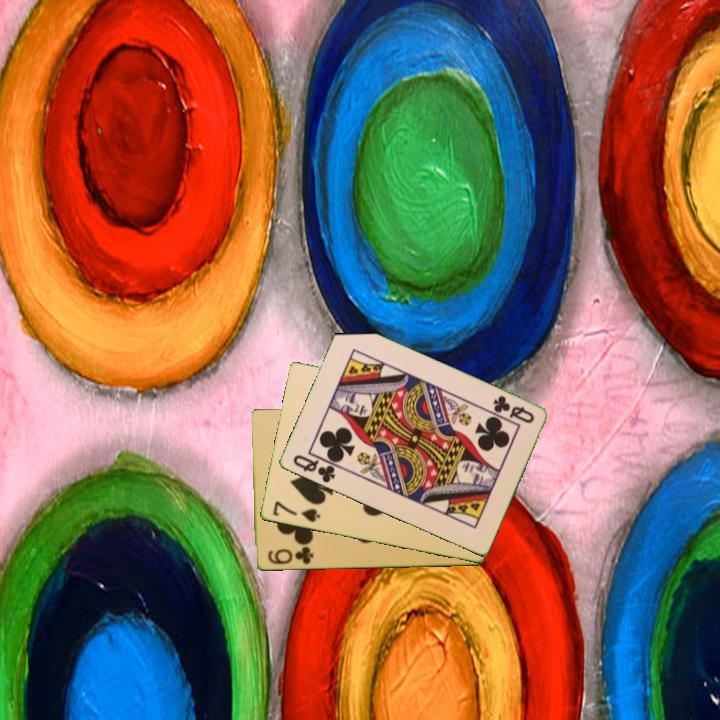6c: (264, 543, 316, 567)
7s: (269, 498, 323, 525)
Qc: (289, 451, 343, 486), (489, 392, 537, 426)
